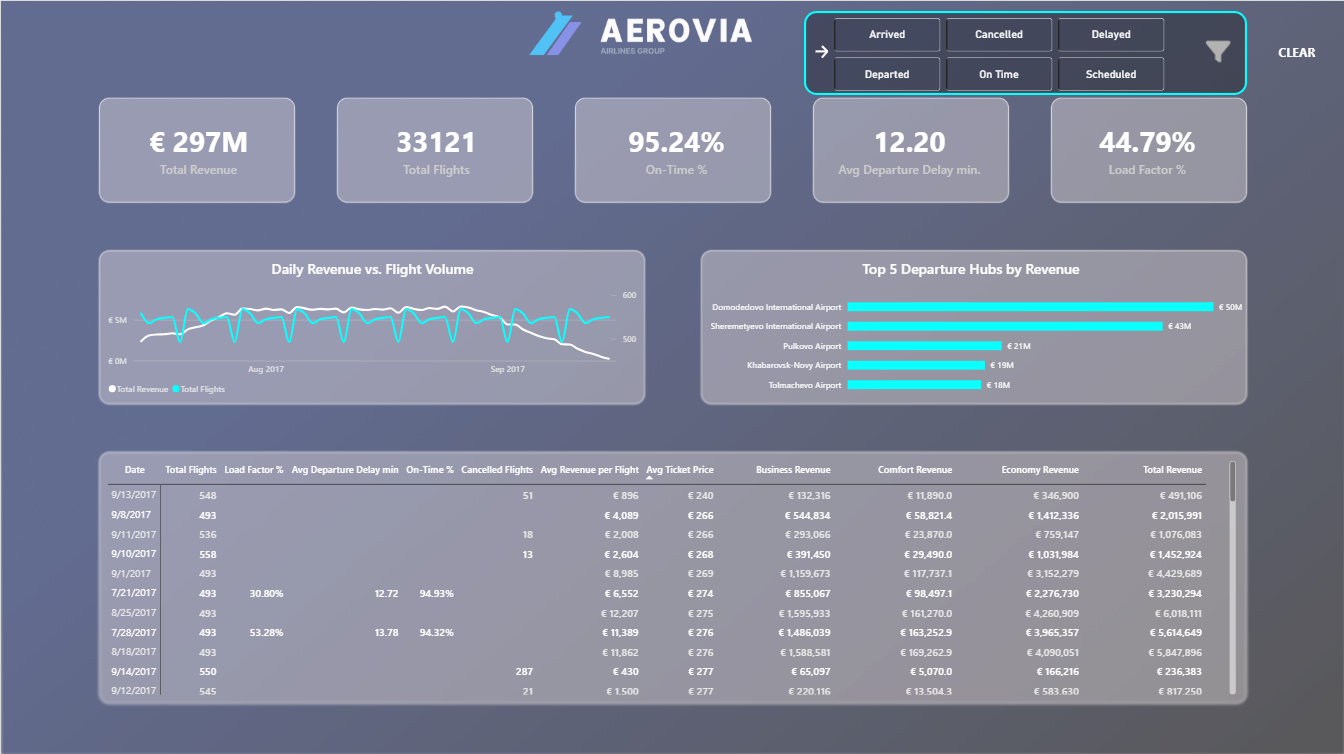

Layout of this report page (visuals, bound fields, positions):
{"tool":"powerbi","page":{"name":"Executive Overview","canvas":[1920,1080],"ordinal":0},"visuals":[{"type":"group","id":"g1","title":"Group 1","box":[157.1,142.9,1605.7,140],"z":0},{"type":"card","fields":{"Values":["# Mesure.Total Revenue"]},"box":[157.1,142.9,250,140],"z":0,"group":"g1"},{"type":"card","fields":{"Values":["# Mesure.Total Flights"]},"box":[497.1,142.9,250,140],"z":1000,"group":"g1"},{"type":"lineChart","title":"Daily Revenue vs. Flight Volume","fields":{"Category":["Dim_Date.Date"],"Y":["# Mesure.Total Revenue"],"Y2":["# Mesure.Total Flights"]},"box":[137.1,354.3,787.1,228.6],"z":1000},{"type":"card","fields":{"Values":["# Mesure.On-Time %"]},"box":[840,142.9,250,140],"z":2000,"group":"g1"},{"type":"clusteredBarChart","title":"Top 5 Departure Hubs by Revenue","fields":{"Category":["bookings v_flight_analytics.departure_airport_name"],"Y":["# Mesure.Total Revenue"]},"box":[981.4,354.3,808.6,228.6],"z":2000},{"type":"card","fields":{"Values":["# Mesure.Avg Departure Delay"]},"box":[1172.8,142.9,250,140],"z":3000,"group":"g1"},{"type":"pivotTable","fields":{"Rows":["Dim_Date.Date"],"Values":["# Mesure.Total Flights","# Mesure.Load Factor %","# Mesure.Avg Departure Delay","# Mesure.On-Time %","# Mesure.Cancelled Flights","# Mesure.Avg Revenue per Flight","# Mesure.Avg Ticket Price","# Mesure.Business Revenue","# Mesure.Comfort Revenue","# Mesure.Economy Revenue","# Mesure.Total Revenue"]},"box":[137.1,654.3,1642.9,364.3],"z":3000},{"type":"actionButton","title":"CLEAR","box":[1805.7,18.6,91.4,108.6],"z":4000},{"type":"card","fields":{"Values":["# Mesure.Load Factor %"]},"box":[1512.8,142.9,250,140],"z":4000,"group":"g1"},{"type":"actionButton","box":[1714.3,45.7,48.6,52.9],"z":5000}]}

Visuals, with their boxes in screenshot pixels (x1, y1, x2, y2), scaled from the page's 1920x1080 canvas onto the 1344x754 screenshot:
"Group 1" group: 110, 100, 1234, 198
card - # Mesure.Total Revenue: 110, 100, 285, 198
card - # Mesure.Total Flights: 348, 100, 523, 198
"Daily Revenue vs. Flight Volume" lineChart: 96, 247, 647, 407
card - # Mesure.On-Time %: 588, 100, 763, 198
"Top 5 Departure Hubs by Revenue" clusteredBarChart: 687, 247, 1253, 407
card - # Mesure.Avg Departure Delay: 821, 100, 996, 198
pivotTable - Dim_Date.Date x # Mesure.Total Flights: 96, 457, 1246, 711
"CLEAR" actionButton: 1264, 13, 1328, 89
card - # Mesure.Load Factor %: 1059, 100, 1234, 198
actionButton: 1200, 32, 1234, 69
